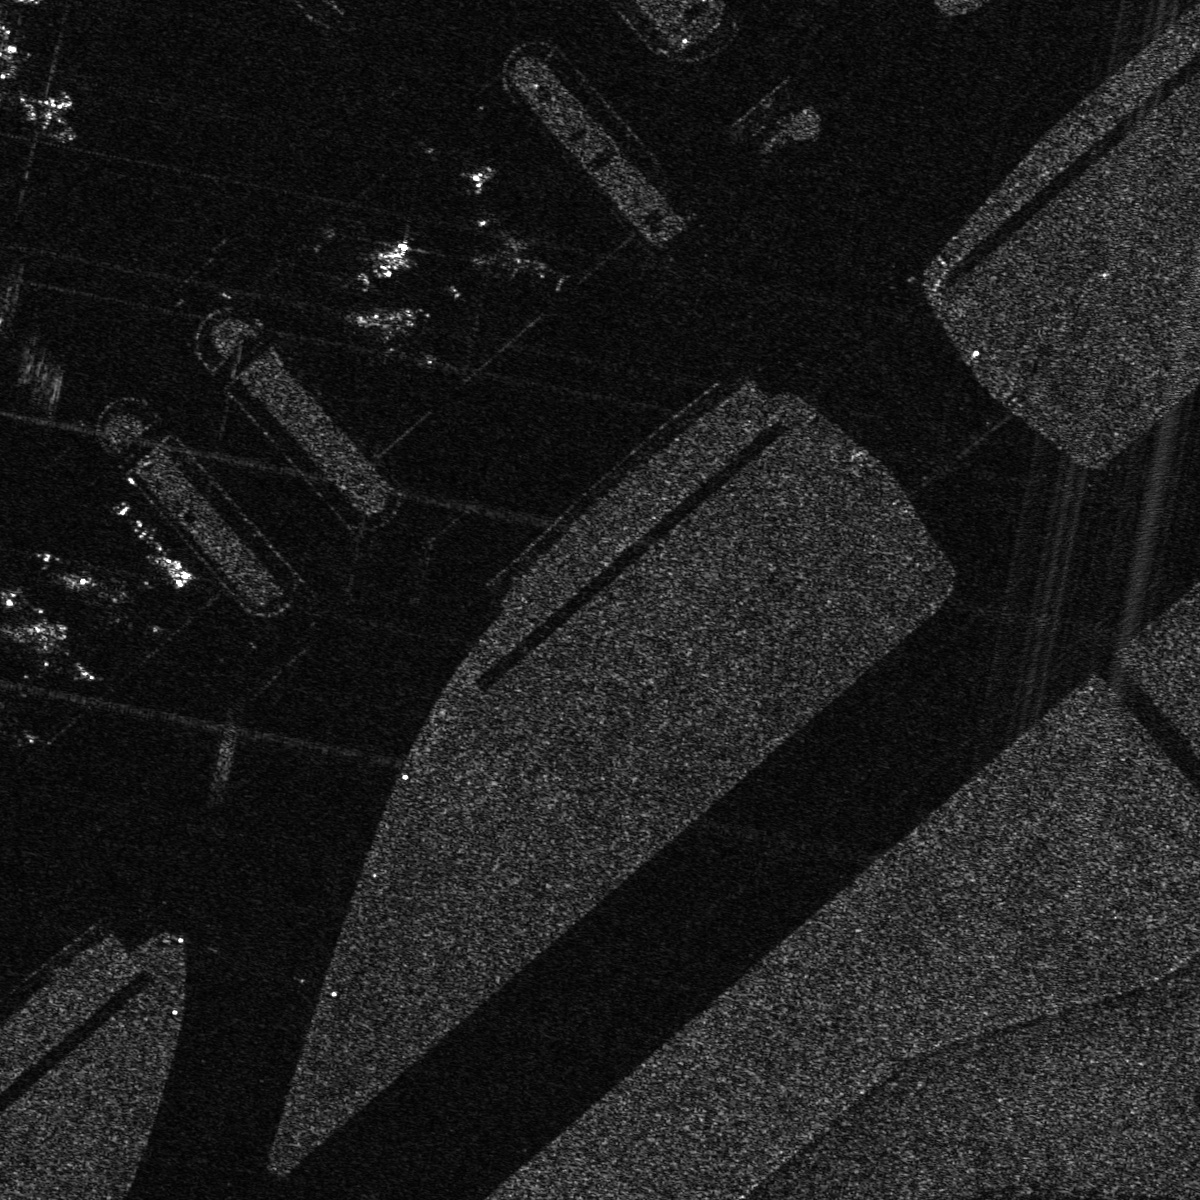Boeing737: (69, 567, 171, 645), (16, 613, 105, 690), (468, 213, 554, 284), (21, 85, 87, 146)
